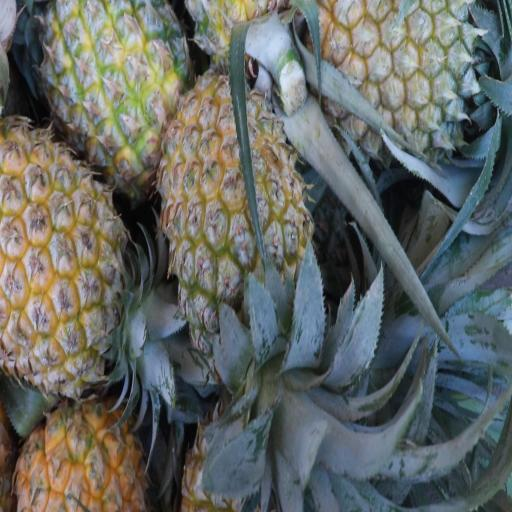------------------------------: (162, 78, 304, 328)
Pineapple - v8 v1: (0, 136, 145, 396), (40, 0, 182, 180), (17, 392, 148, 512)
